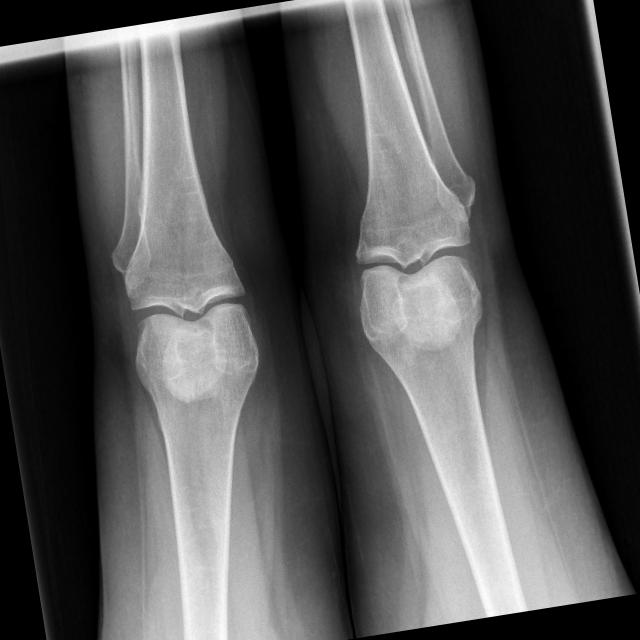Knee: (346, 205, 490, 338), (119, 255, 262, 382)
